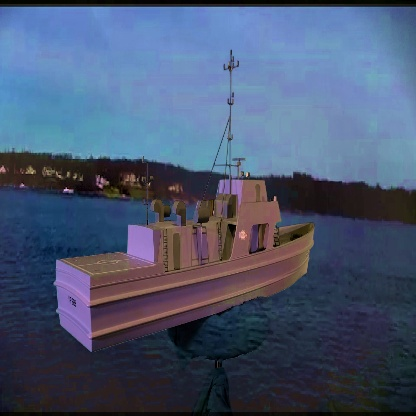YP689: (52, 34, 312, 360)
